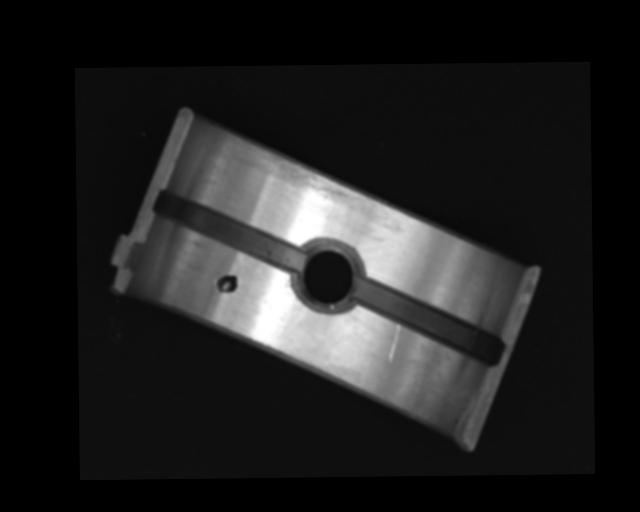blot: (213, 274, 238, 293)
gap: (356, 276, 501, 367), (154, 190, 304, 273)
hole: (294, 238, 361, 314)
nick: (387, 323, 400, 362)
scratch: (235, 136, 369, 204)
